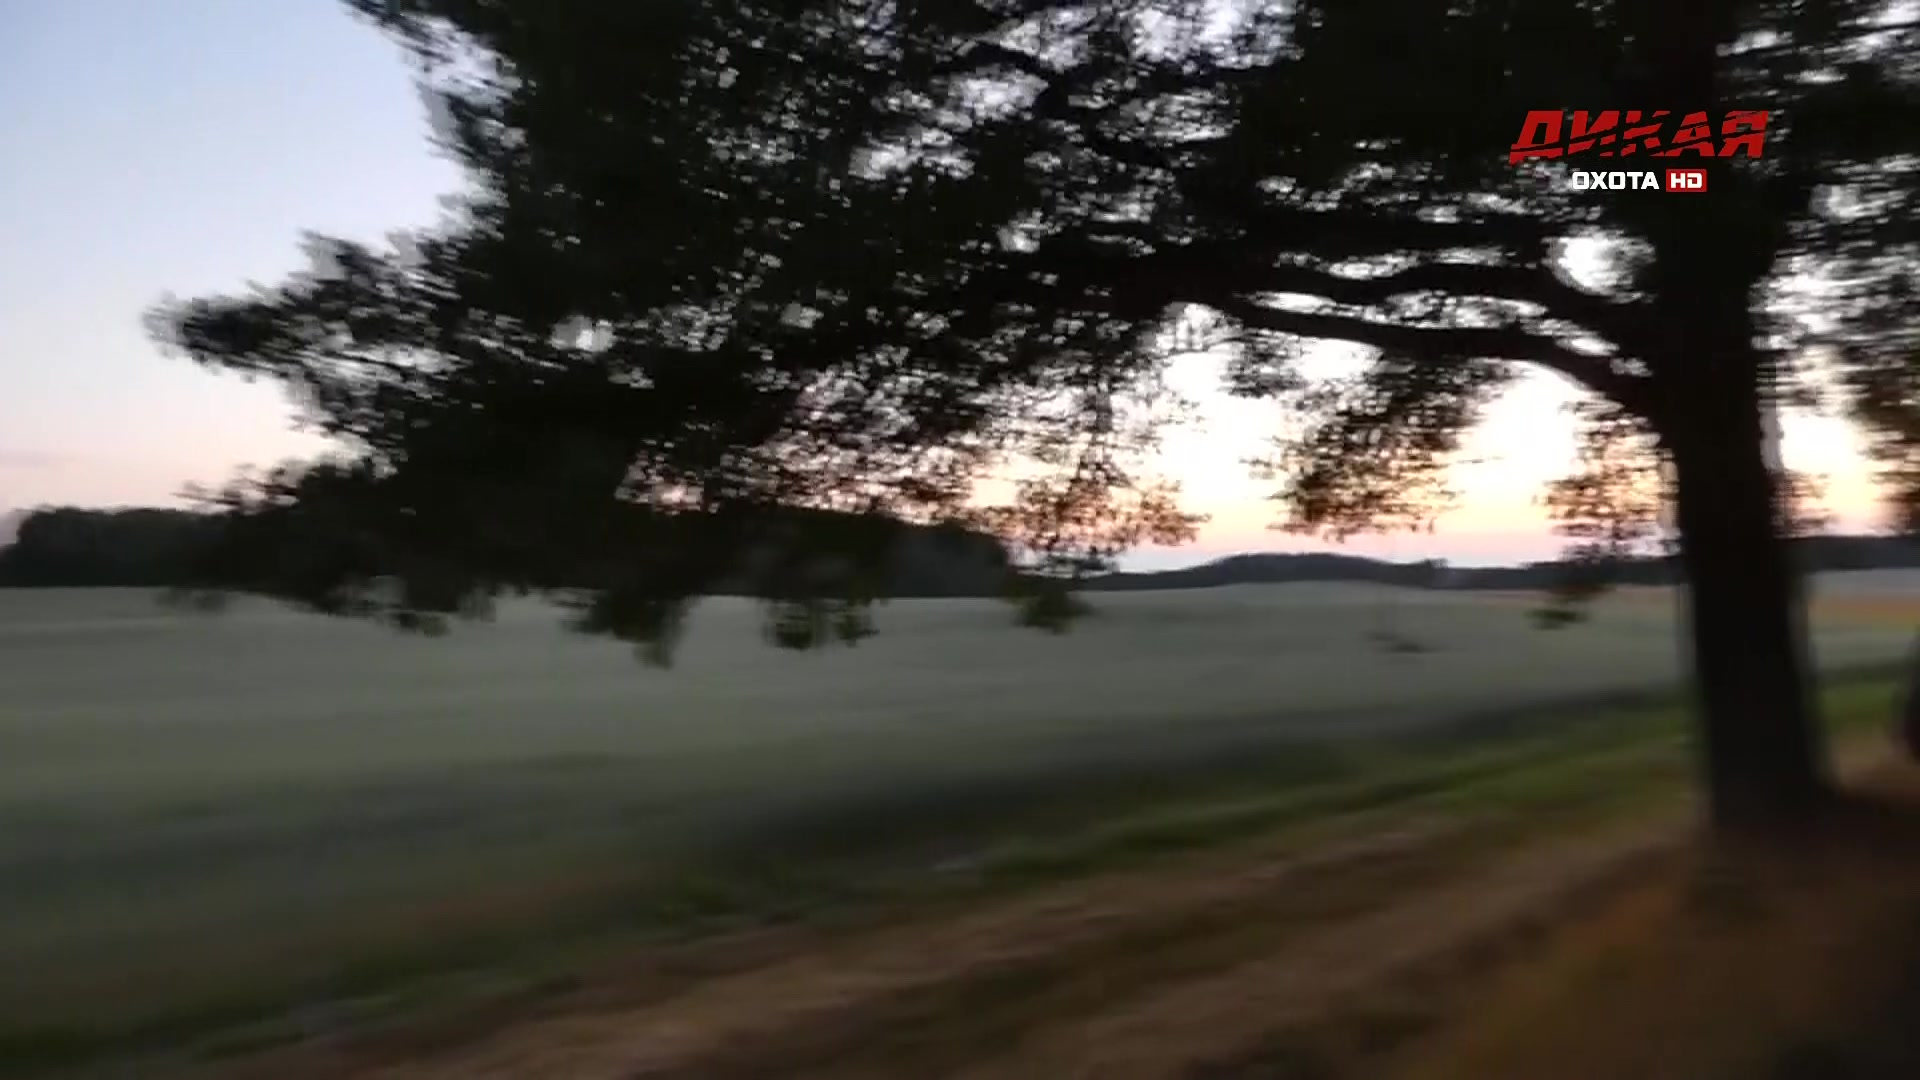Dikaya_Ohota_HD: (1506, 100, 1771, 195)
